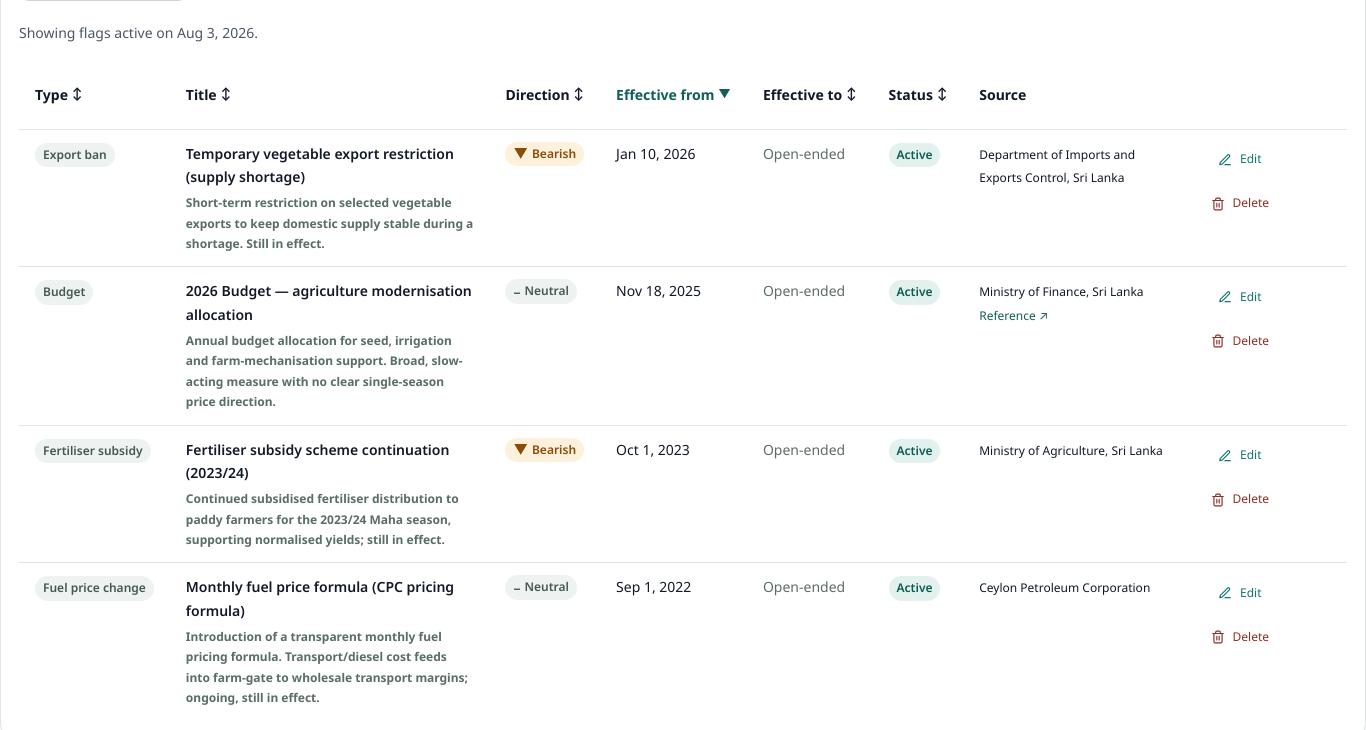
Test case: Admin console pages › PolicyFlagsPage (ADM-2) › shows a dismissible amber banner (not an error) when a mutation returns trainingDataWarning
(page scrolled)
Step 1. Click the button "Edit" in the row of "Fuel price change" → [1240, 593], box [1196,575,1284,611]
(page scrolled)
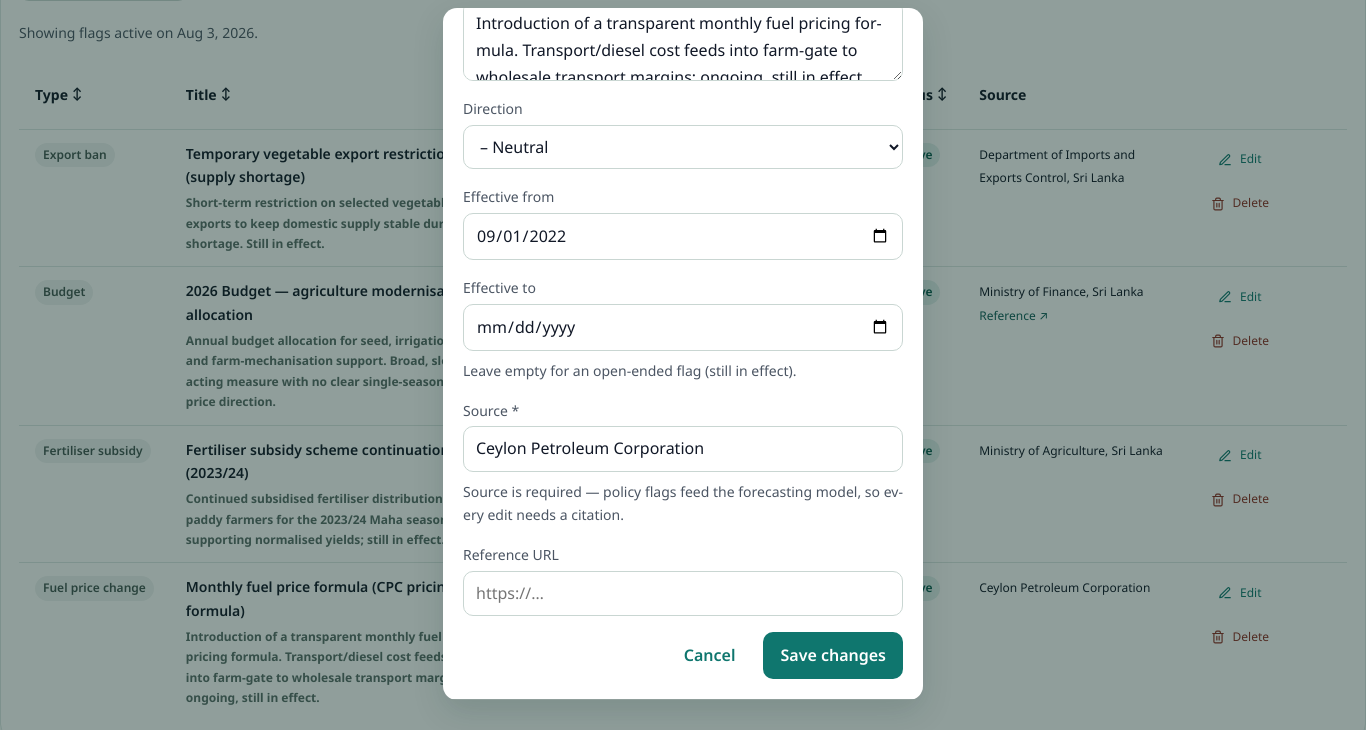
Step 2. Click the button "Save changes" → [833, 656], box [764,632,903,679]
(page scrolled)
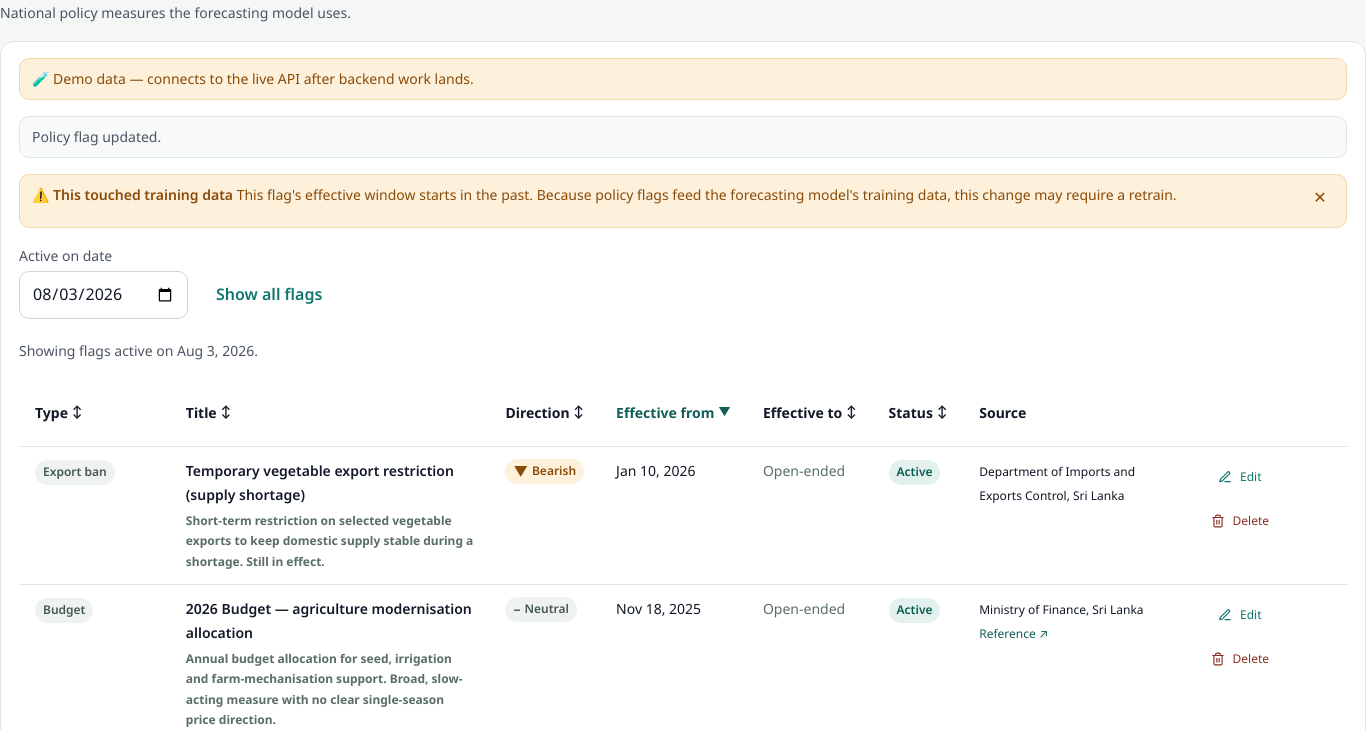
Now the text "This touched training data" is shown, box [53,185,233,204]
Now the text "Policy flag updated." is shown, box [19,116,1347,158]
Step 3. Click the button named "Dismiss" → [1320, 197], box [1298,175,1342,219]
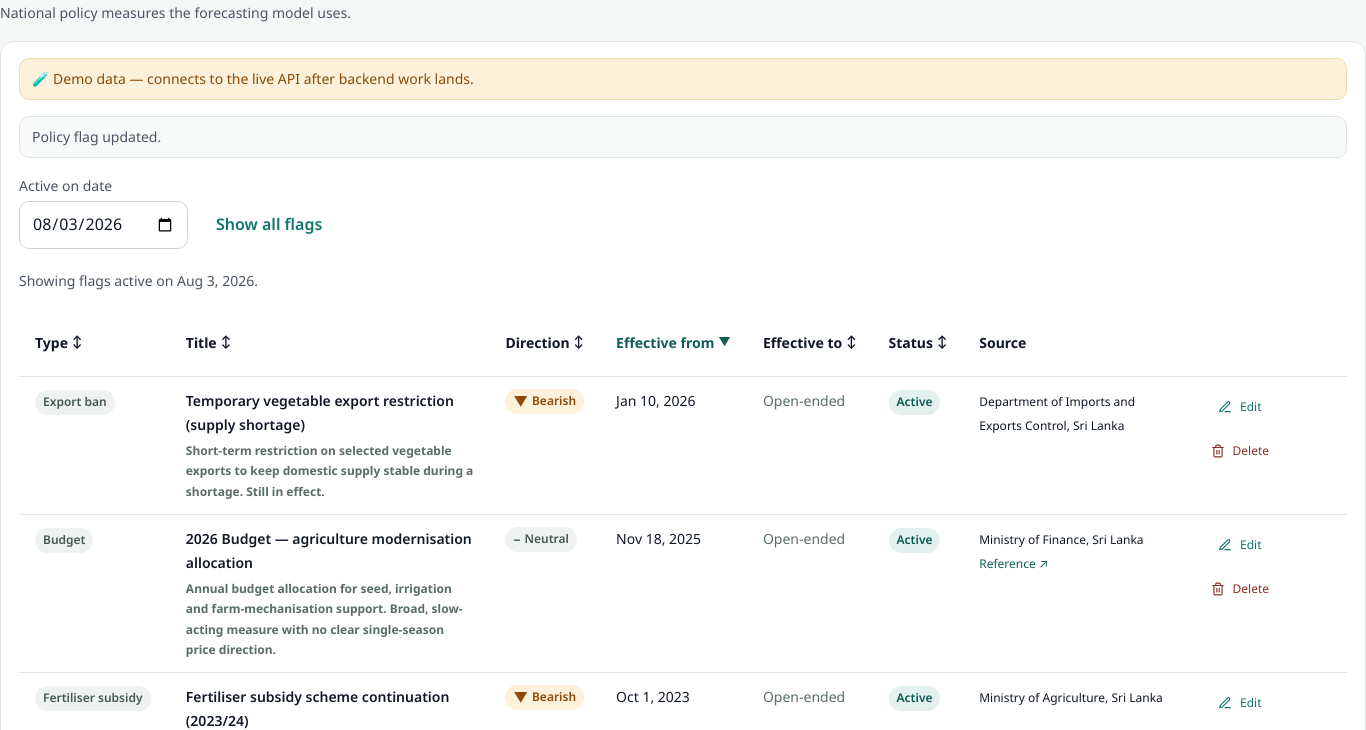
Now the text "This touched training data" is gone
